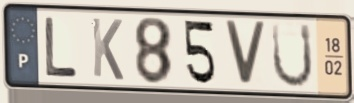5: (182, 18, 218, 87)
8: (132, 15, 176, 88)
K: (89, 15, 126, 84)
L: (42, 15, 81, 79)
U: (270, 20, 315, 91)
V: (221, 18, 269, 90)
